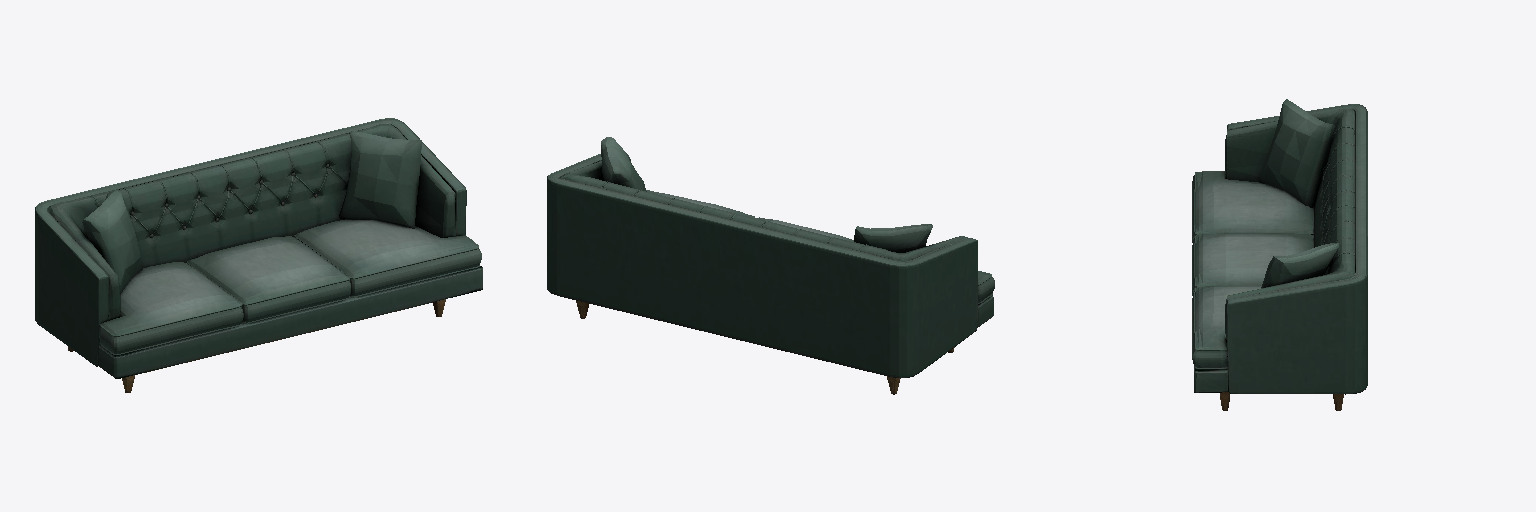
The picture shows the model from 3 angles: view 1: azimuth 30°, elevation 25°; view 2: azimuth 150°, elevation 25°; view 3: azimuth 270°, elevation 25°; orthographic projection.
Parts seen in each view (by area): view 1: CHESTER_SOFA; view 2: CHESTER_SOFA; view 3: CHESTER_SOFA.
Boxes of the visible parts, <box> form: CHESTER_SOFA: <box>35,118,482,392</box>; CHESTER_SOFA: <box>547,137,994,394</box>; CHESTER_SOFA: <box>1192,99,1367,410</box>.
Size of the model in its own units: 2.22 by 0.8933 by 0.9126.
1 materials, 1 textured.